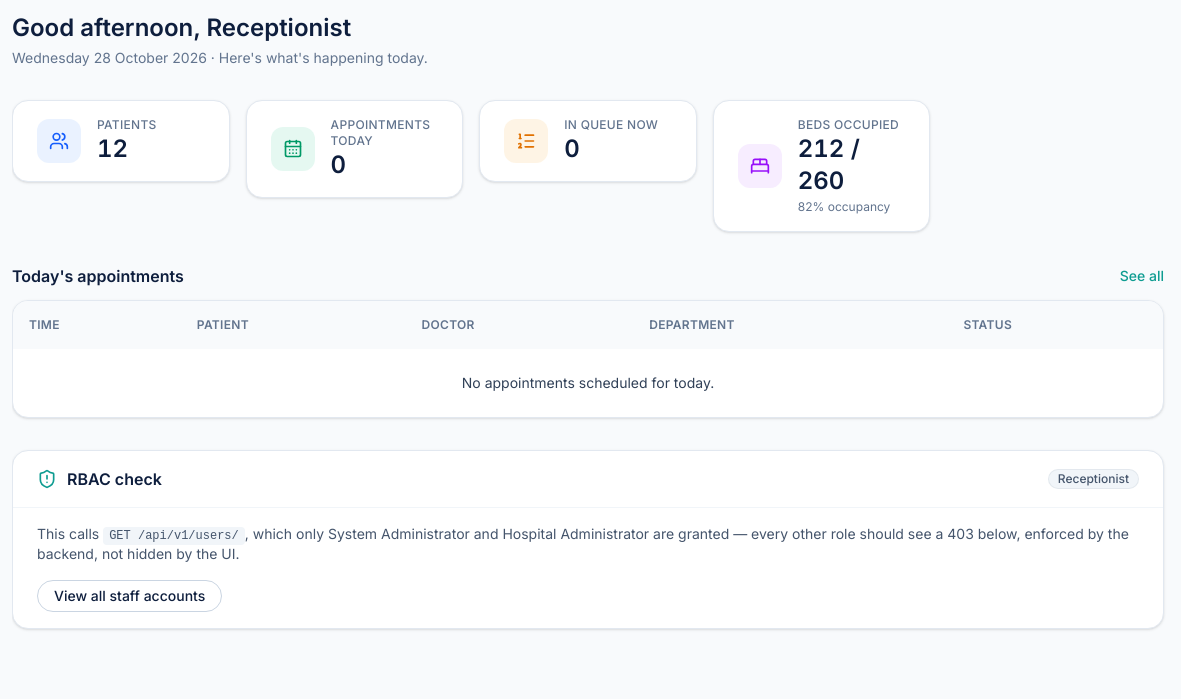
Test: Dashboard › shows the staff list when the request is allowed
What coordinates should you click on to do the following:
click the button "View all staff accounts"
I would click on:
 (130, 596)
Its box is [37,580,222,612].
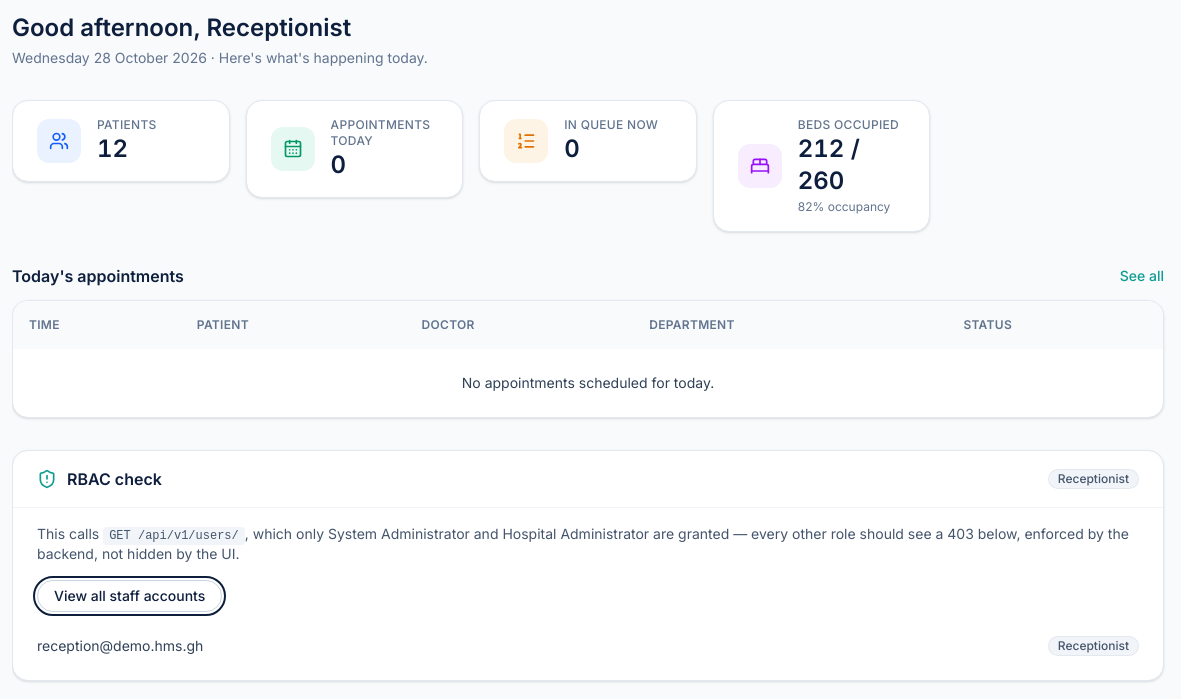
Expected: the text "reception@demo.hms.gh" below "GET /api/v1/users/" is shown, [37,637,203,654]
